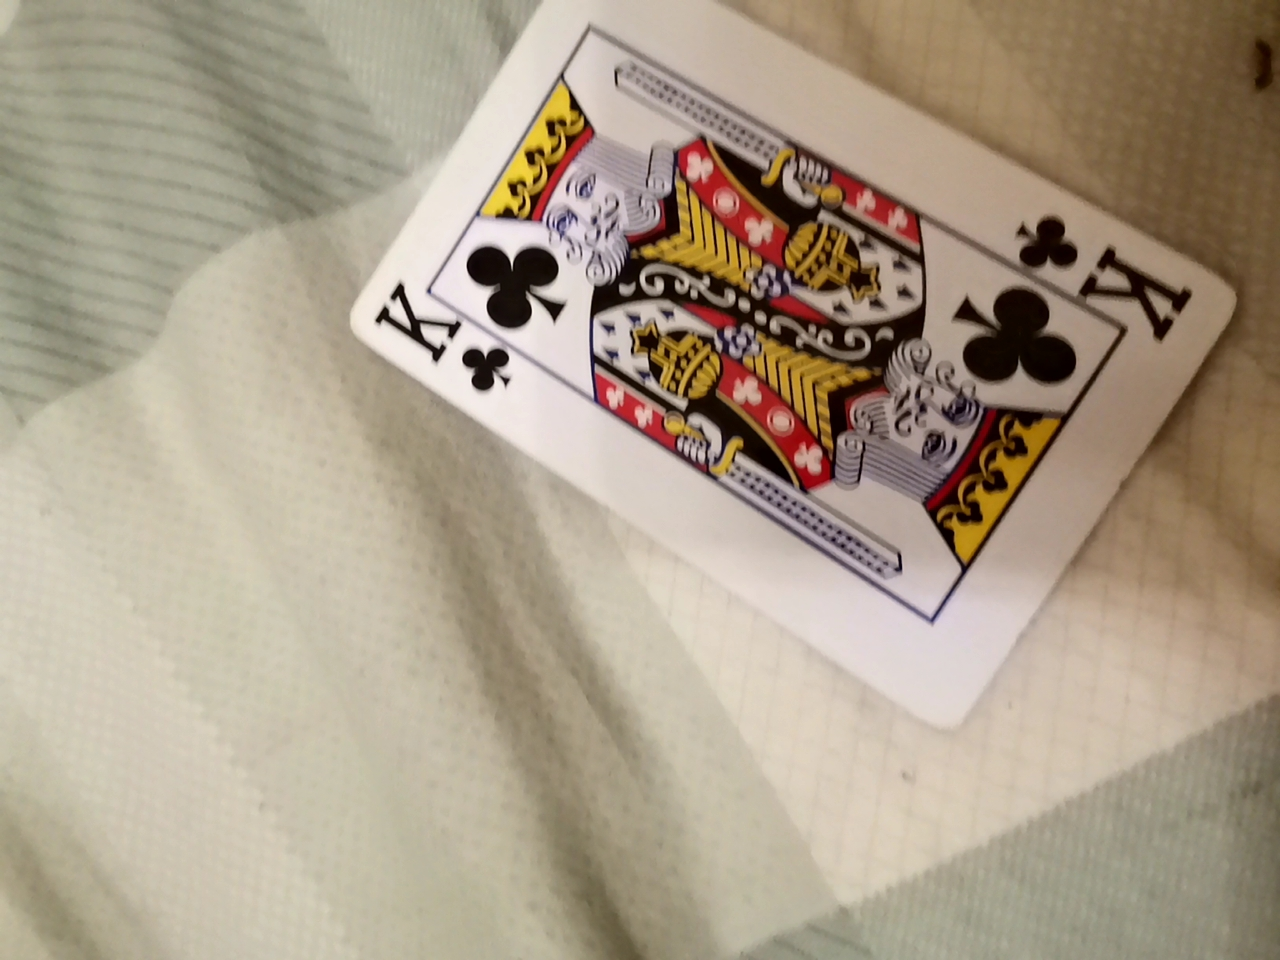mh k: (339, 7, 1215, 731)
